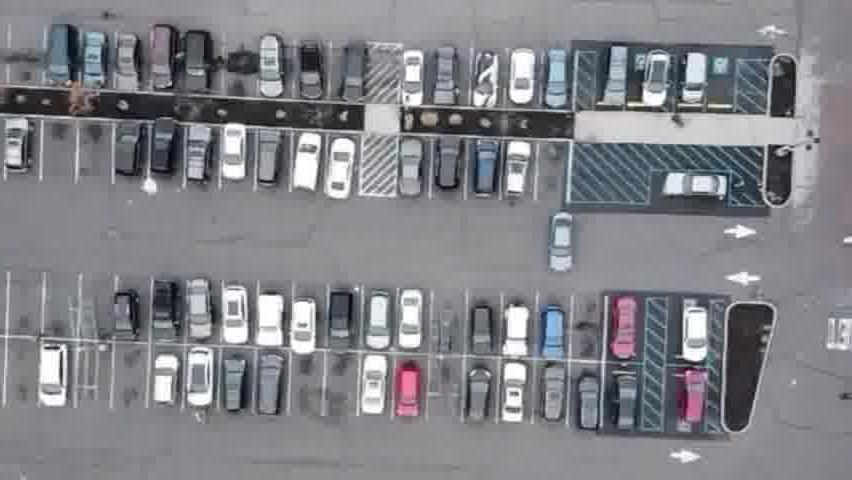car: (541, 210, 586, 273), (360, 287, 402, 349), (360, 355, 398, 422), (36, 343, 71, 413), (42, 26, 78, 91), (181, 33, 216, 98), (326, 136, 361, 201), (658, 166, 729, 198), (148, 25, 179, 94), (114, 119, 150, 178), (503, 360, 536, 424), (258, 352, 290, 418), (184, 350, 218, 412), (499, 137, 532, 200), (147, 120, 180, 183), (218, 355, 250, 418), (328, 291, 359, 356), (341, 40, 372, 104), (288, 137, 321, 197), (288, 301, 322, 359), (148, 284, 179, 347), (150, 352, 181, 415), (255, 126, 287, 187), (612, 293, 642, 358), (399, 285, 428, 350), (259, 35, 287, 102), (468, 364, 499, 424), (399, 360, 430, 420), (258, 299, 290, 357), (637, 49, 670, 105), (222, 282, 252, 343), (401, 137, 430, 199), (4, 120, 35, 178), (187, 284, 215, 348), (434, 133, 464, 192), (470, 139, 499, 200), (500, 301, 531, 358), (508, 46, 537, 106), (429, 48, 458, 108), (577, 367, 605, 429), (676, 49, 707, 105), (185, 127, 214, 186), (682, 367, 711, 426), (602, 47, 631, 105), (79, 38, 108, 96), (110, 292, 140, 348), (615, 365, 642, 427), (682, 297, 710, 356), (544, 47, 571, 108), (299, 38, 325, 101), (399, 53, 426, 113), (470, 50, 498, 107), (542, 364, 569, 423), (219, 130, 245, 191), (541, 306, 570, 359), (114, 39, 139, 100), (470, 305, 494, 358)
